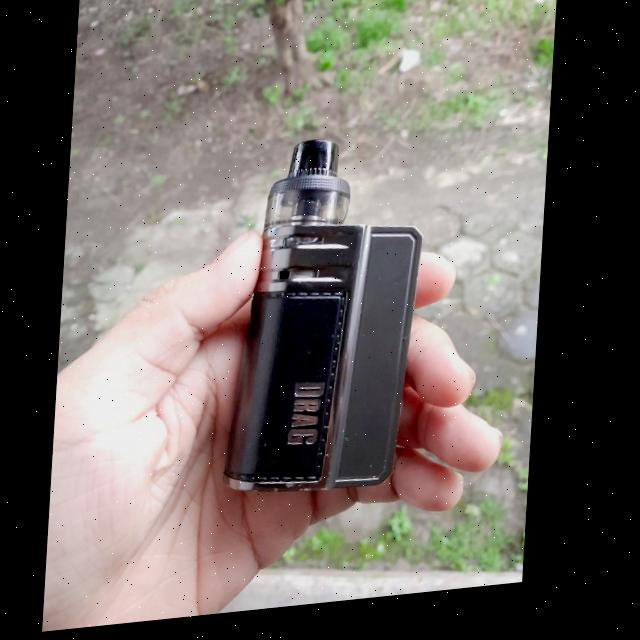vape: (226, 137, 433, 509)
